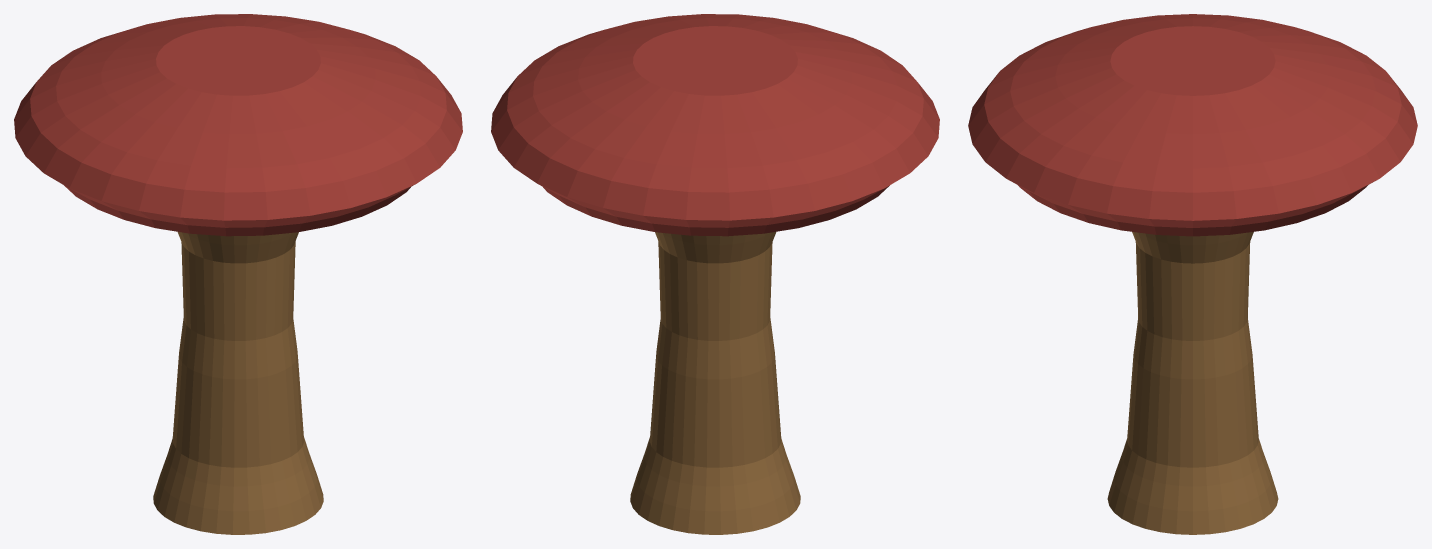
Rendered from MushRoom.fbx.
3 renders of one model, left to right at view 1: azimuth 30°, elevation 25°; view 2: azimuth 150°, elevation 25°; view 3: azimuth 270°, elevation 25°, orthographic.
Parts seen in each view (by area): view 1: MushRoom; view 2: MushRoom; view 3: MushRoom.
Part boxes in pixels (x1,y1,x2,y2): MushRoom: (14, 14, 462, 534); MushRoom: (491, 14, 939, 534); MushRoom: (968, 14, 1417, 534).
Bounding box in the file's own units: 39.91 × 42.88 × 39.91.
